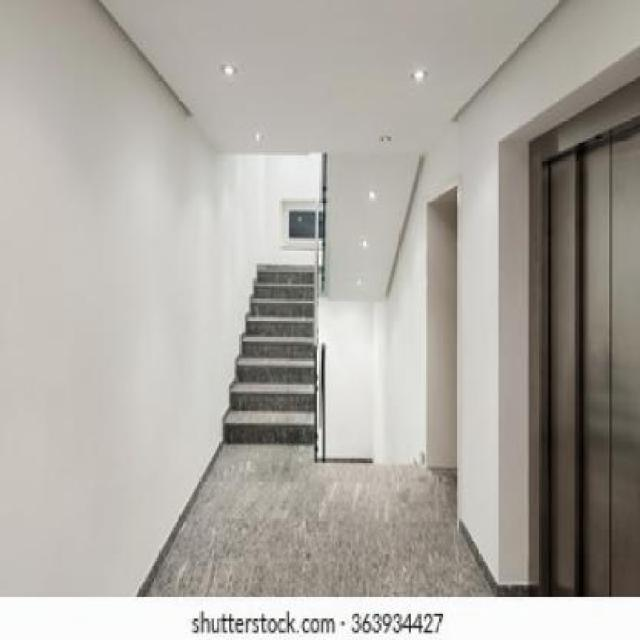stair: (227, 252, 336, 454)
